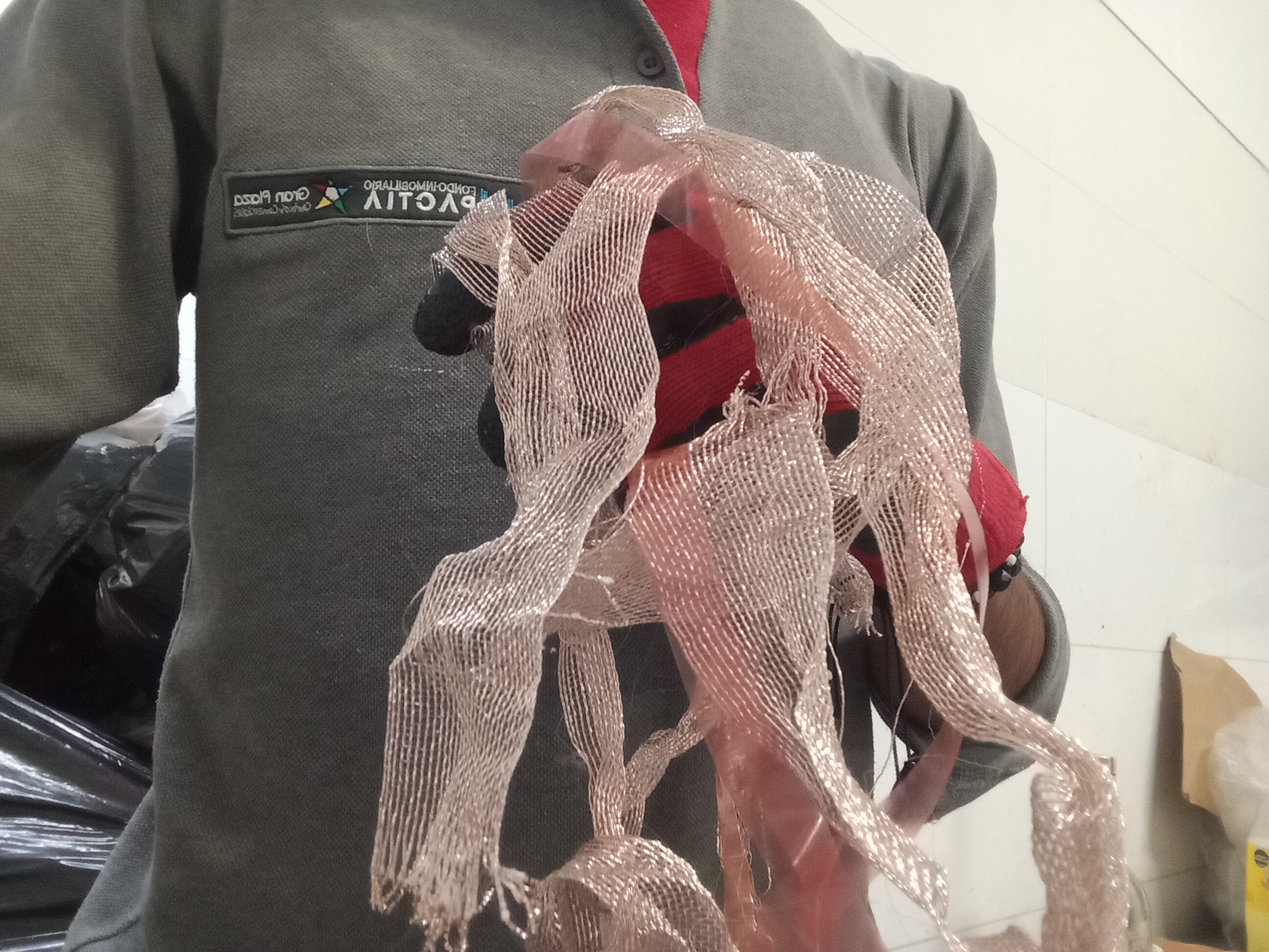Ordinario: (373, 84, 1127, 952)
